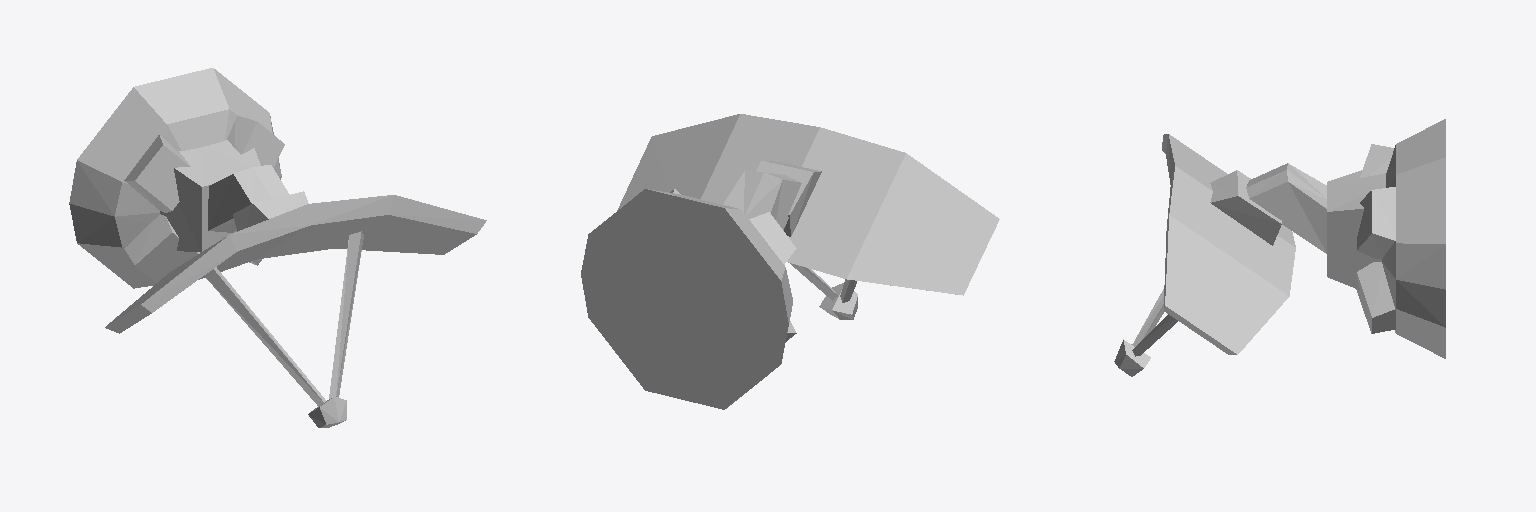
The model's file is comm-tower-01.obj.
The picture shows the model from 3 angles: view 1: azimuth 30°, elevation 25°; view 2: azimuth 150°, elevation 25°; view 3: azimuth 270°, elevation 25°; orthographic projection.
Visible parts, largest first — view 1: comm_tower_01; view 2: comm_tower_01; view 3: comm_tower_01.
Part boxes in pixels (x1,y1,x2,y2): comm_tower_01: (69, 68, 486, 427); comm_tower_01: (581, 114, 999, 409); comm_tower_01: (1114, 119, 1445, 376).
Size of the model in its own units: 4.59 by 2.98 by 3.79.